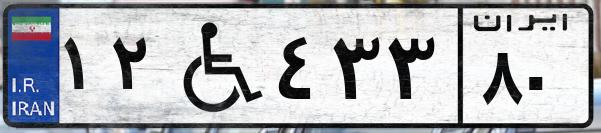0: (525, 38, 570, 115)
1: (57, 26, 110, 100)
2: (110, 28, 158, 98)
3: (385, 28, 445, 110), (330, 28, 385, 110)
4: (270, 28, 330, 110)
8: (475, 38, 525, 113)
ژ (معلولین و جانبازان): (158, 12, 270, 120)
